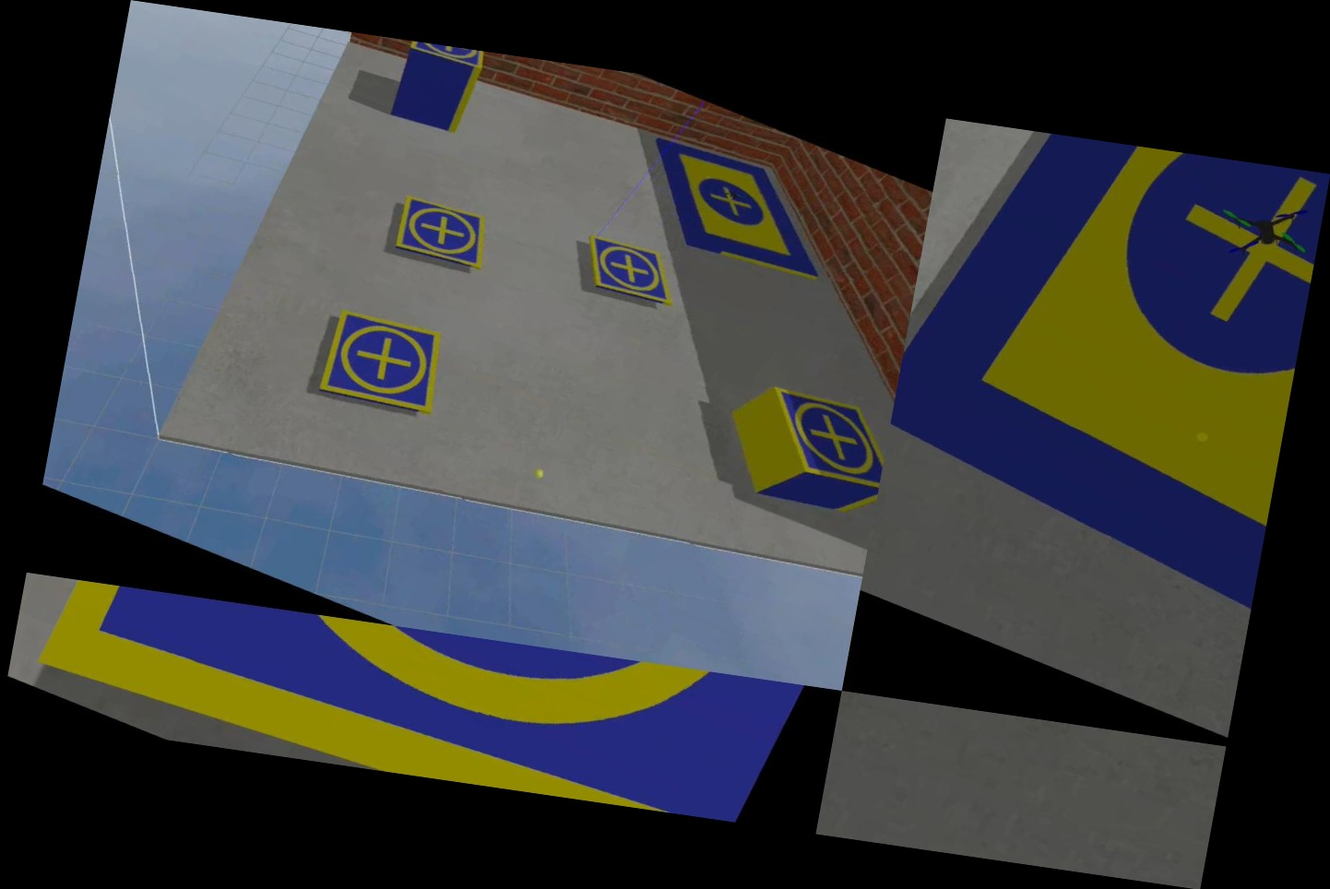large_base: (861, 118, 1329, 643), (602, 124, 864, 304)
small_base: (25, 576, 841, 834), (296, 294, 466, 439), (730, 373, 896, 510), (374, 185, 505, 286), (564, 228, 692, 320), (400, 40, 494, 77)
